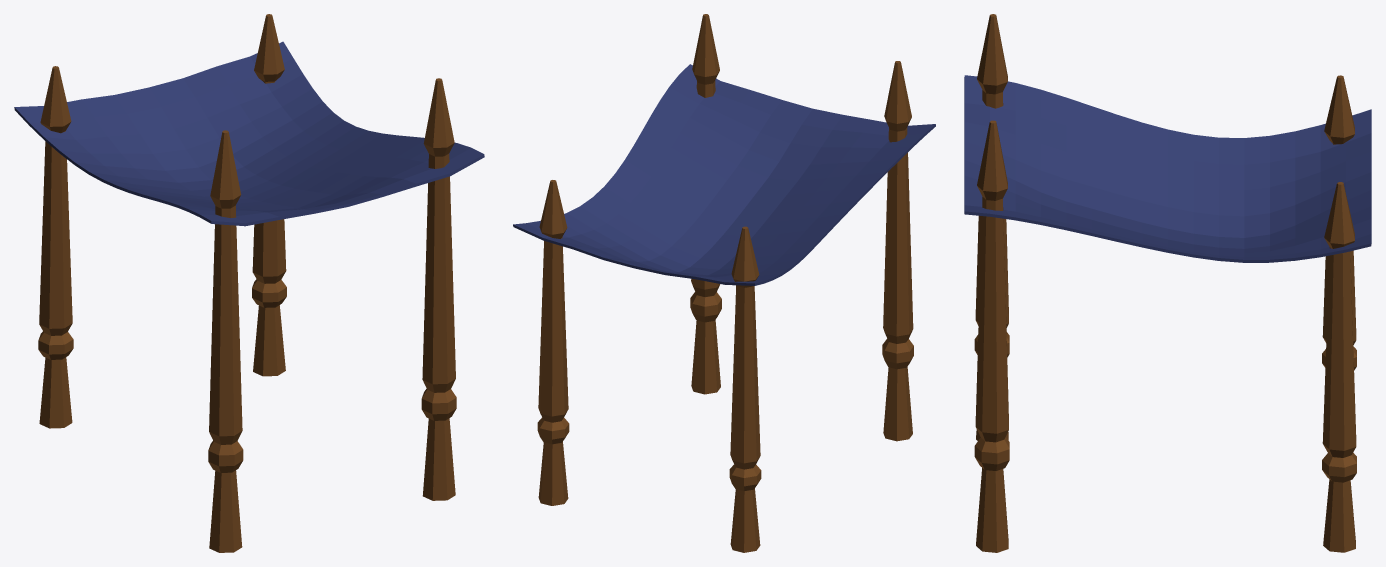
File: G_Tent_Blue.fbx
3 renders of one model, left to right at view 1: azimuth 30°, elevation 25°; view 2: azimuth 150°, elevation 25°; view 3: azimuth 270°, elevation 25°, orthographic. The views are drawn at different scales.
Parts seen in each view (by area): view 1: G_Tent_Blue; view 2: G_Tent_Blue; view 3: G_Tent_Blue.
Boxes of the visible parts, bbox=[...] form: G_Tent_Blue: bbox=[14, 14, 484, 552]; G_Tent_Blue: bbox=[513, 14, 935, 552]; G_Tent_Blue: bbox=[964, 14, 1371, 552].
Size of the model in its own units: 250 by 363 by 316.
